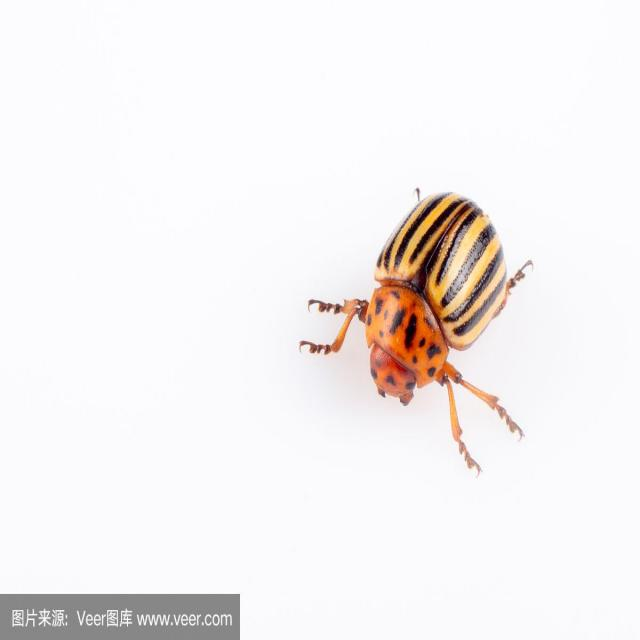ShuCaiHuaBanChong-Grown-: (349, 176, 516, 421)
